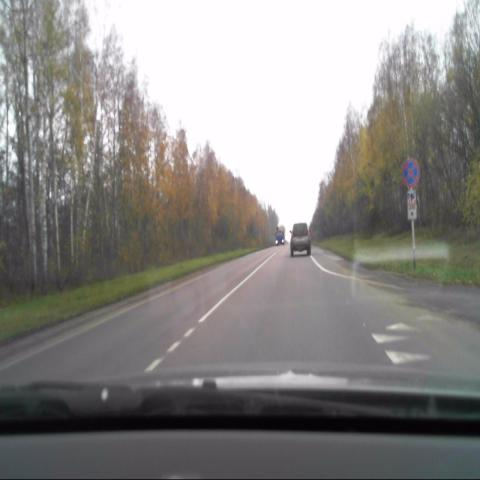3_27: (401, 156, 419, 186)
8_2_2: (407, 191, 416, 220)
